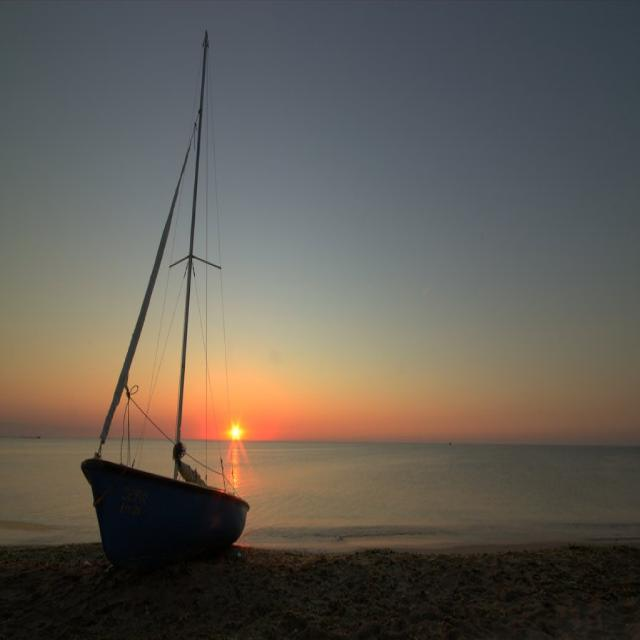Boat: (72, 50, 264, 588)
